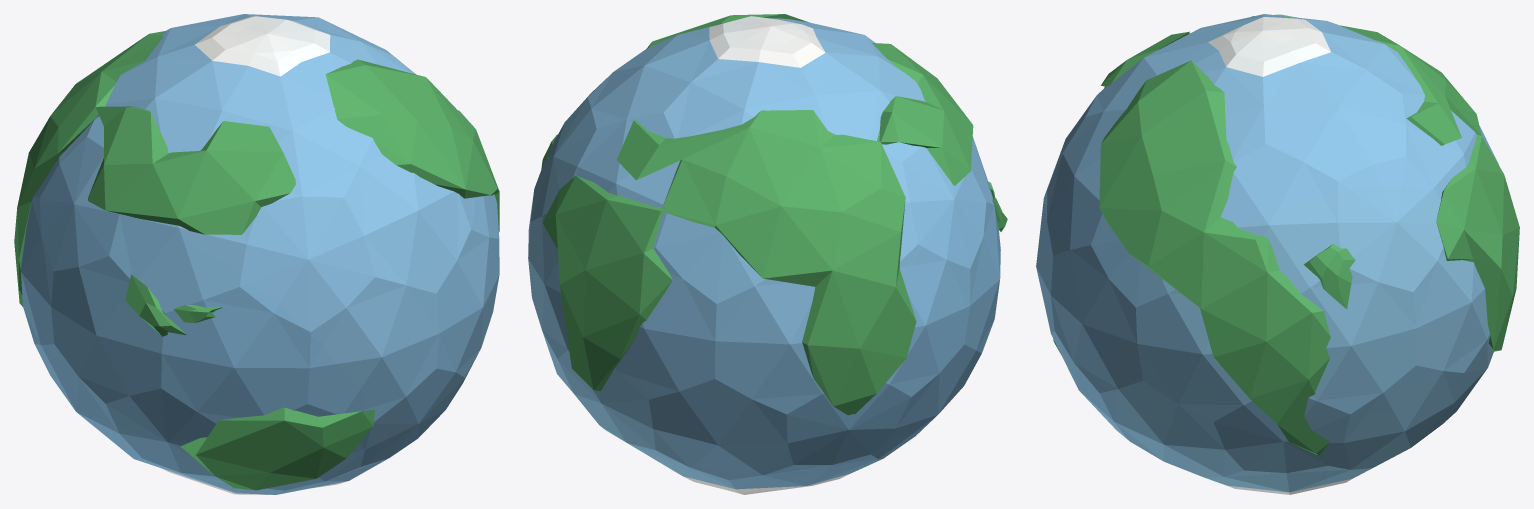
The model's file is CHAHIN_EARTH.obj.
3 views of the same model, side by side, from view 1: azimuth 30°, elevation 25°; view 2: azimuth 150°, elevation 25°; view 3: azimuth 270°, elevation 25° (orthographic).
Visible parts, largest first — view 1: Icosphere_Icosphere.001; view 2: Icosphere_Icosphere.001; view 3: Icosphere_Icosphere.001.
Part boxes in pixels (<box>): Icosphere_Icosphere.001: <box>14,14,499,494</box>; Icosphere_Icosphere.001: <box>528,14,1007,494</box>; Icosphere_Icosphere.001: <box>1036,14,1519,494</box>.
Bounding box in the file's own units: 17.22 × 17.52 × 17.23.
1 material, 1 textured.
